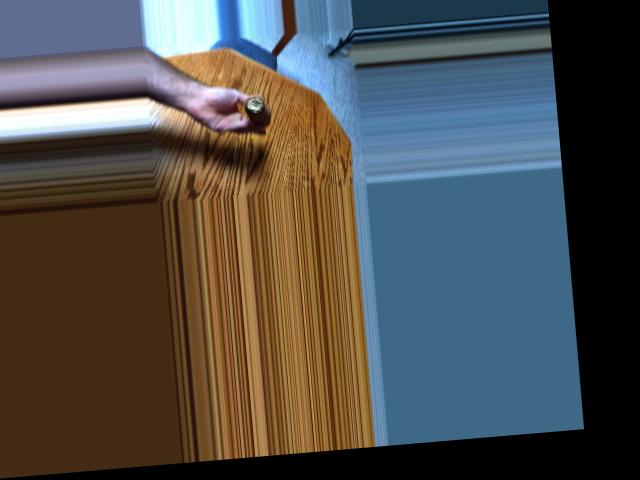sweet_potato: (235, 89, 276, 130)
